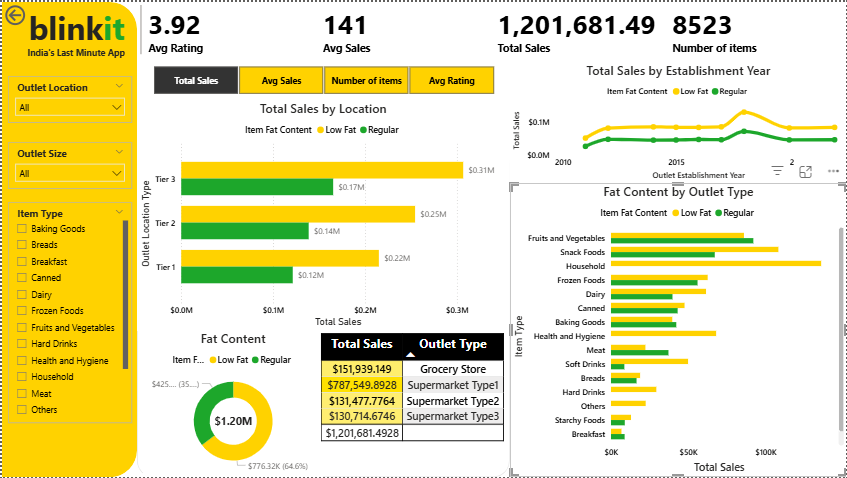

What the dashboard file says about the page in this screenshot:
{"tool":"powerbi","page":{"name":"Page 1","canvas":[1280,720],"ordinal":0},"visuals":[{"type":"shape","box":[0,0,204.6,720],"z":0},{"type":"textbox","box":[10.1,0,204.9,77.3],"z":1000},{"type":"textbox","box":[23.5,62.2,176.4,28.6],"z":2000},{"type":"multiRowCard","fields":{"Values":["BlinkIT Grocery Data.Avg Rating","BlinkIT Grocery Data.Avg Sales","BlinkIT Grocery Data.Total Sales","BlinkIT Grocery Data.Number of items"]},"box":[204.6,0,1075.5,91.1],"z":3000},{"type":"shape","box":[204.6,219.6,564.6,500.4],"z":4000},{"type":"donutChart","title":"Fat Content","fields":{"Y":["BlinkIT Grocery Data.Total Sales"],"Category":["BlinkIT Grocery Data.Item Fat Content"]},"box":[213.6,497.4,273.4,222.6],"z":5000},{"type":"slicer","fields":{"Values":["Metrics.Metrics"]},"box":[204.6,91.1,564.6,55.3],"z":6000},{"type":"actionButton","box":[0,0,100,40],"z":7000},{"type":"clusteredBarChart","title":"Fat Content by Outlet Type","fields":{"Y":["BlinkIT Grocery Data.Total Sales"],"Category":["BlinkIT Grocery Data.Item Type"],"Series":["BlinkIT Grocery Data.Item Fat Content"]},"box":[769.3,274.9,510.9,445.1],"z":8000},{"type":"clusteredBarChart","title":"Total Sales by Location","fields":{"Y":["BlinkIT Grocery Data.Total Sales"],"Category":["BlinkIT Grocery Data.Outlet Location Type"],"Series":["BlinkIT Grocery Data.Item Fat Content"]},"box":[204.6,147.9,564.6,349.5],"z":9000},{"type":"card","fields":{"Values":["BlinkIT Grocery Data.Total Sales"]},"box":[315.2,615.4,70.2,43.3],"z":10000},{"type":"lineChart","title":"Total Sales by Establishment Year ","fields":{"Y":["BlinkIT Grocery Data.Total Sales"],"Category":["BlinkIT Grocery Data.Outlet Establishment Year"],"Series":["BlinkIT Grocery Data.Item Fat Content"]},"box":[769.3,91.1,510.9,183.7],"z":11000},{"type":"tableEx","fields":{"Values":["BlinkIT Grocery Data.Total Sales","BlinkIT Grocery Data.Outlet Type"]},"box":[478,497.4,291.3,222.6],"z":12000},{"type":"slicer","fields":{"Values":["BlinkIT Grocery Data.Outlet Location Type"]},"box":[8.4,112.5,188.1,70.6],"z":13000},{"type":"slicer","fields":{"Values":["BlinkIT Grocery Data.Outlet Size"]},"box":[8.4,211.7,188.1,70.6],"z":14000},{"type":"slicer","fields":{"Values":["BlinkIT Grocery Data.Item Type"]},"box":[9,303.2,188.2,334.6],"z":14001}]}

Visuals, with their boxes on the page's 1280x720 design canvas (x1, y1, x2, y2). These are canvas units, not pixel positions in the 847x478 screenshot, which may show the page scaled, cropped or inside an application window:
shape: locate(0, 0, 205, 720)
textbox: locate(10, 0, 215, 77)
textbox: locate(24, 62, 200, 91)
multiRowCard - BlinkIT Grocery Data.Avg Rating x BlinkIT Grocery Data.Avg Sales: locate(205, 0, 1280, 91)
shape: locate(205, 220, 769, 720)
"Fat Content" donutChart: locate(214, 497, 487, 720)
slicer - Metrics.Metrics: locate(205, 91, 769, 146)
actionButton: locate(0, 0, 100, 40)
"Fat Content by Outlet Type" clusteredBarChart: locate(769, 275, 1280, 720)
"Total Sales by Location" clusteredBarChart: locate(205, 148, 769, 497)
card - BlinkIT Grocery Data.Total Sales: locate(315, 615, 385, 659)
"Total Sales by Establishment Year " lineChart: locate(769, 91, 1280, 275)
tableEx - BlinkIT Grocery Data.Total Sales x BlinkIT Grocery Data.Outlet Type: locate(478, 497, 769, 720)
slicer - BlinkIT Grocery Data.Outlet Location Type: locate(8, 112, 196, 183)
slicer - BlinkIT Grocery Data.Outlet Size: locate(8, 212, 196, 282)
slicer - BlinkIT Grocery Data.Item Type: locate(9, 303, 197, 638)
